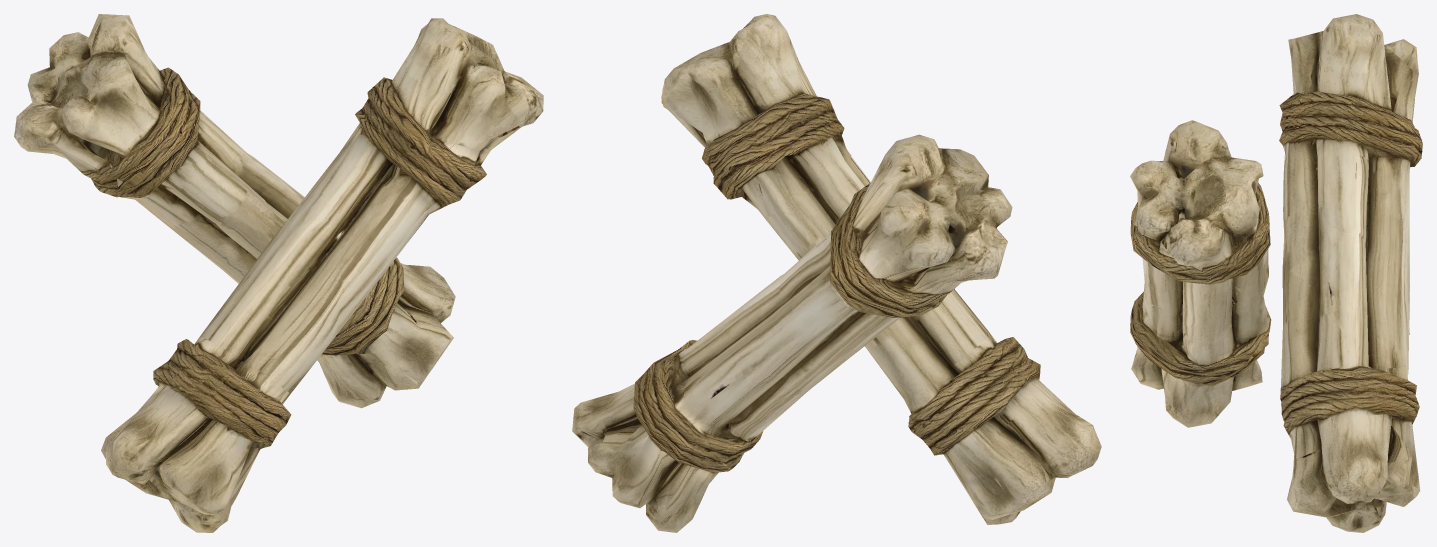
Rendered from Bone_Arms_Armor.glb.
3 views of the same model, side by side, from view 1: azimuth 30°, elevation 25°; view 2: azimuth 150°, elevation 25°; view 3: azimuth 270°, elevation 25° (orthographic). The views are drawn at different scales.
Bounding box in the file's own units: 1.89 × 1.89 × 1.23.
1 material, 1 textured.
